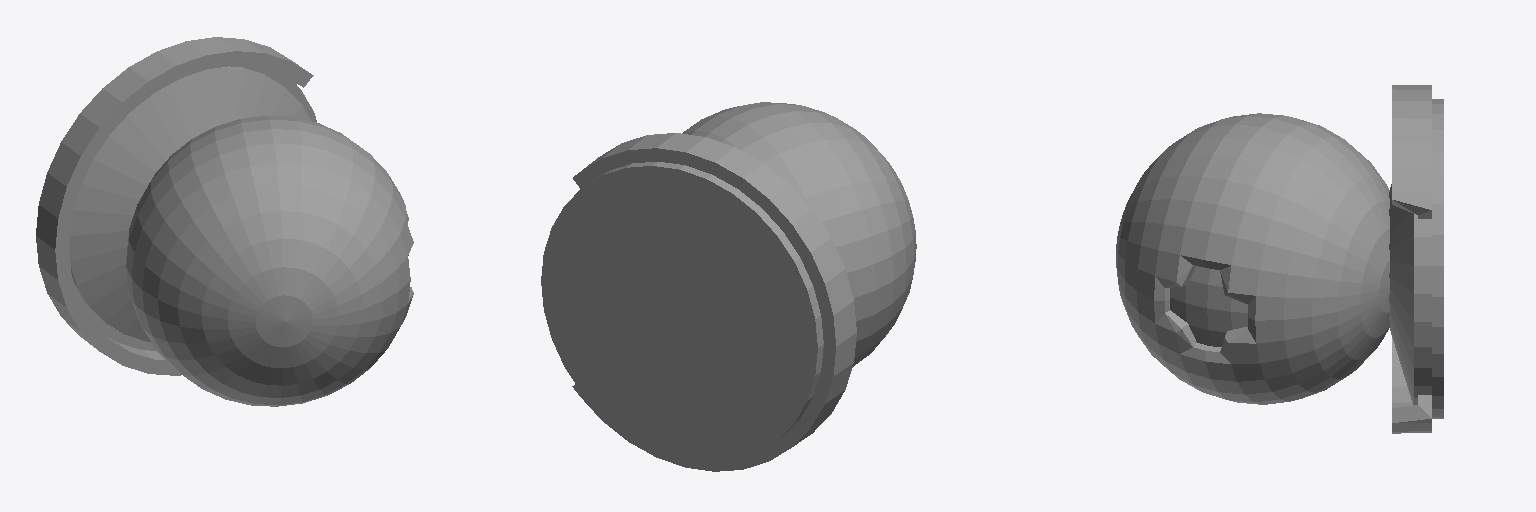
File: MaterialExhibitor.obj
3 renders of one model, left to right at view 1: azimuth 30°, elevation 25°; view 2: azimuth 150°, elevation 25°; view 3: azimuth 270°, elevation 25°, orthographic.
Visible parts, largest first — view 1: Sphere, Cylinder, Cylinder.001; view 2: Cylinder, Sphere, Cylinder.001; view 3: Sphere, Cylinder, Cylinder.001, Sphere.001.
Part boxes in pixels (x1,y1,x2,y2): Sphere: (126,116,413,406); Cylinder: (69,66,316,341); Cylinder.001: (36,37,313,375); Cylinder: (541,162,823,462); Sphere: (682,102,916,366); Cylinder.001: (572,133,856,471); Sphere: (1116,113,1389,404); Cylinder: (1389,99,1443,418); Cylinder.001: (1392,85,1431,433); Sphere.001: (1170,266,1247,346).
Bounding box in the file's own units: 209 × 219 × 205.